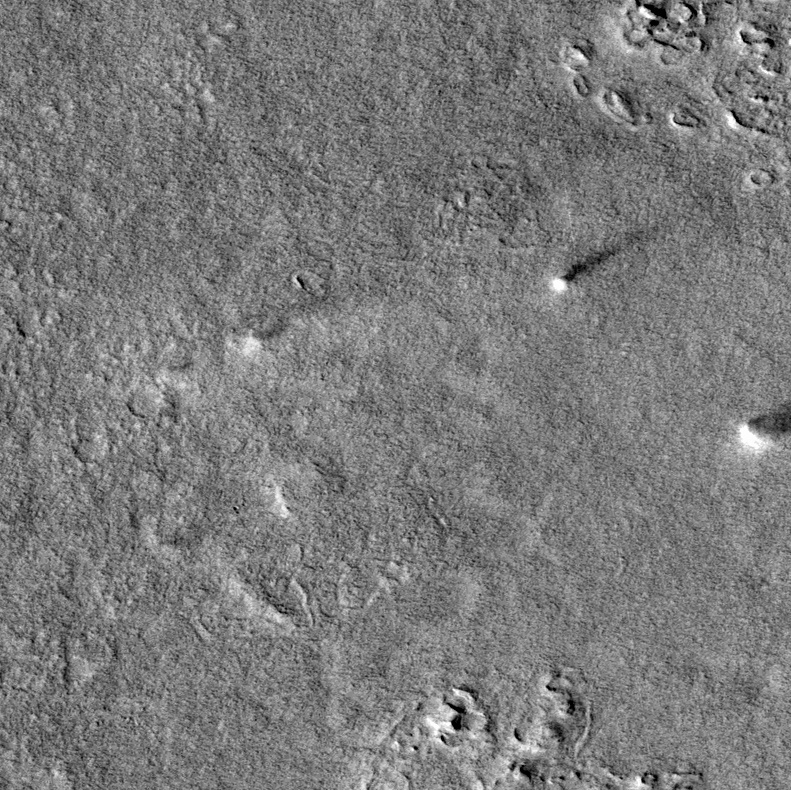dust_devil: (550, 237, 632, 293), (737, 398, 791, 453), (242, 318, 292, 356)
